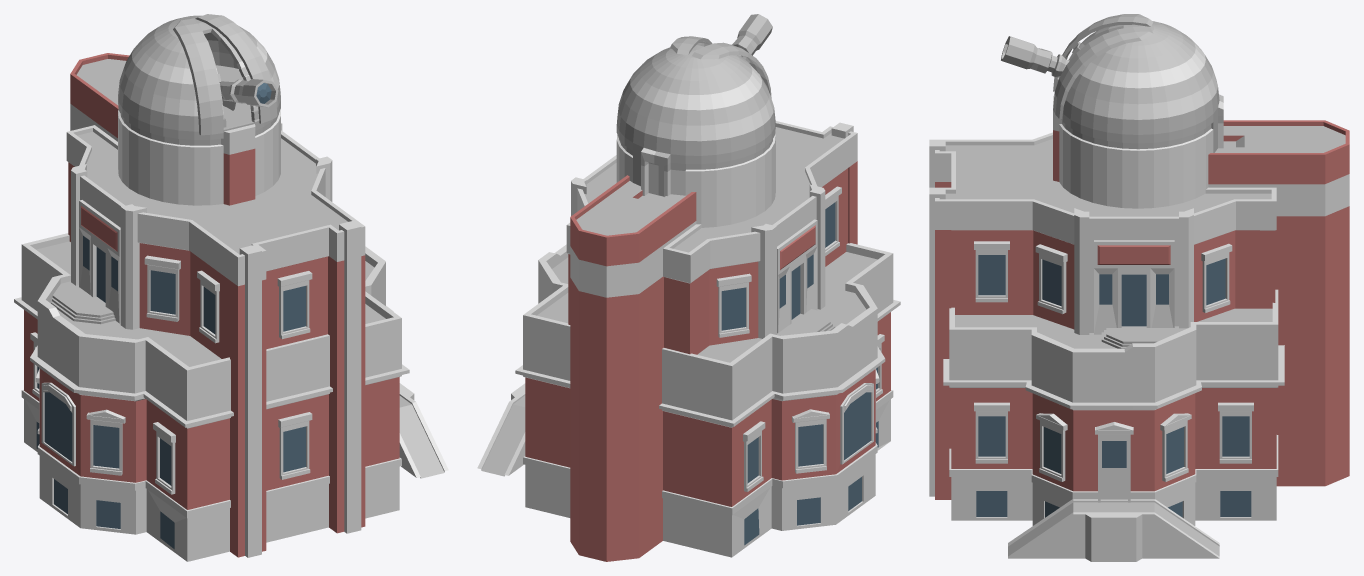
The model's file is observatory.fbx.
The picture shows the model from 3 angles, left to right: view 1: azimuth 30°, elevation 25°; view 2: azimuth 150°, elevation 25°; view 3: azimuth 270°, elevation 25°; orthographic projection. The views are drawn at different scales.
Visible parts, largest first — view 1: lower block.001; view 2: lower block.001; view 3: lower block.001.
Part boxes in pixels (x1=…): lower block.001: x1=14, y1=14, x2=448, y2=561; lower block.001: x1=477, y1=14, x2=900, y2=561; lower block.001: x1=929, y1=14, x2=1349, y2=561.
Size of the model in its own units: 497 by 606 by 517.
